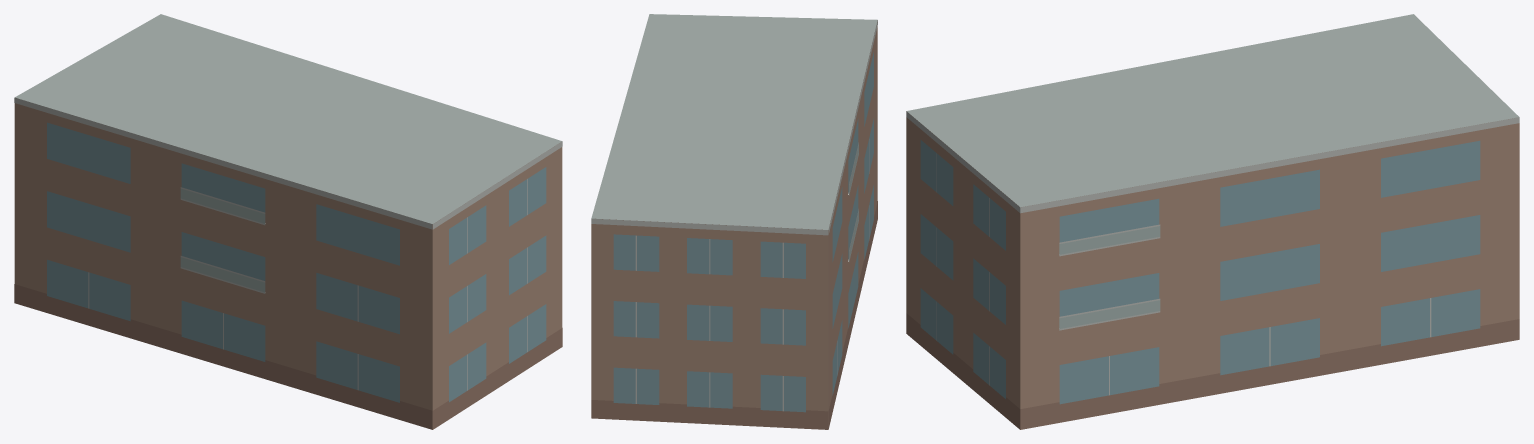
The model's file is survey-upis-32582943.glb.
3 renders of one model, left to right at view 1: azimuth 30°, elevation 25°; view 2: azimuth 150°, elevation 25°; view 3: azimuth 270°, elevation 25°, orthographic. The views are drawn at different scales.
Visible parts, largest first — view 1: survey-upis-32582943.tmp; view 2: survey-upis-32582943.tmp; view 3: survey-upis-32582943.tmp.
Boxes of the visible parts, x1,y1,x2,y2 form: survey-upis-32582943.tmp: [14, 14, 562, 429]; survey-upis-32582943.tmp: [591, 14, 877, 429]; survey-upis-32582943.tmp: [906, 14, 1519, 429].
Bounding box in the file's own units: 16.96 × 9.1 × 22.73.
